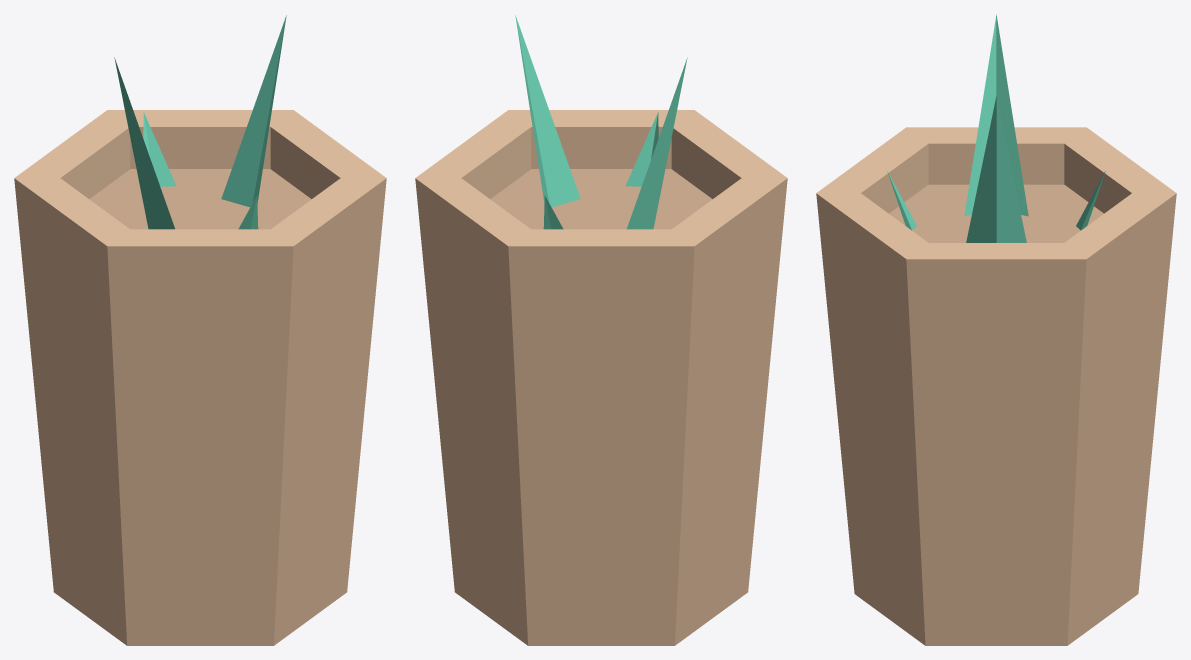
The model's file is Maceta.fbx.
The picture shows the model from 3 angles, left to right: view 1: azimuth 30°, elevation 25°; view 2: azimuth 150°, elevation 25°; view 3: azimuth 270°, elevation 25°; orthographic projection. The views are drawn at different scales.
Visible parts, largest first — view 1: k_pottedPlant; view 2: k_pottedPlant; view 3: k_pottedPlant.
Boxes of the visible parts, bbox=[...] form: k_pottedPlant: bbox=[14, 15, 386, 645]; k_pottedPlant: bbox=[415, 15, 787, 645]; k_pottedPlant: bbox=[816, 14, 1176, 645].
Size of the model in its own units: 0.4722 by 0.9 by 0.5453.
